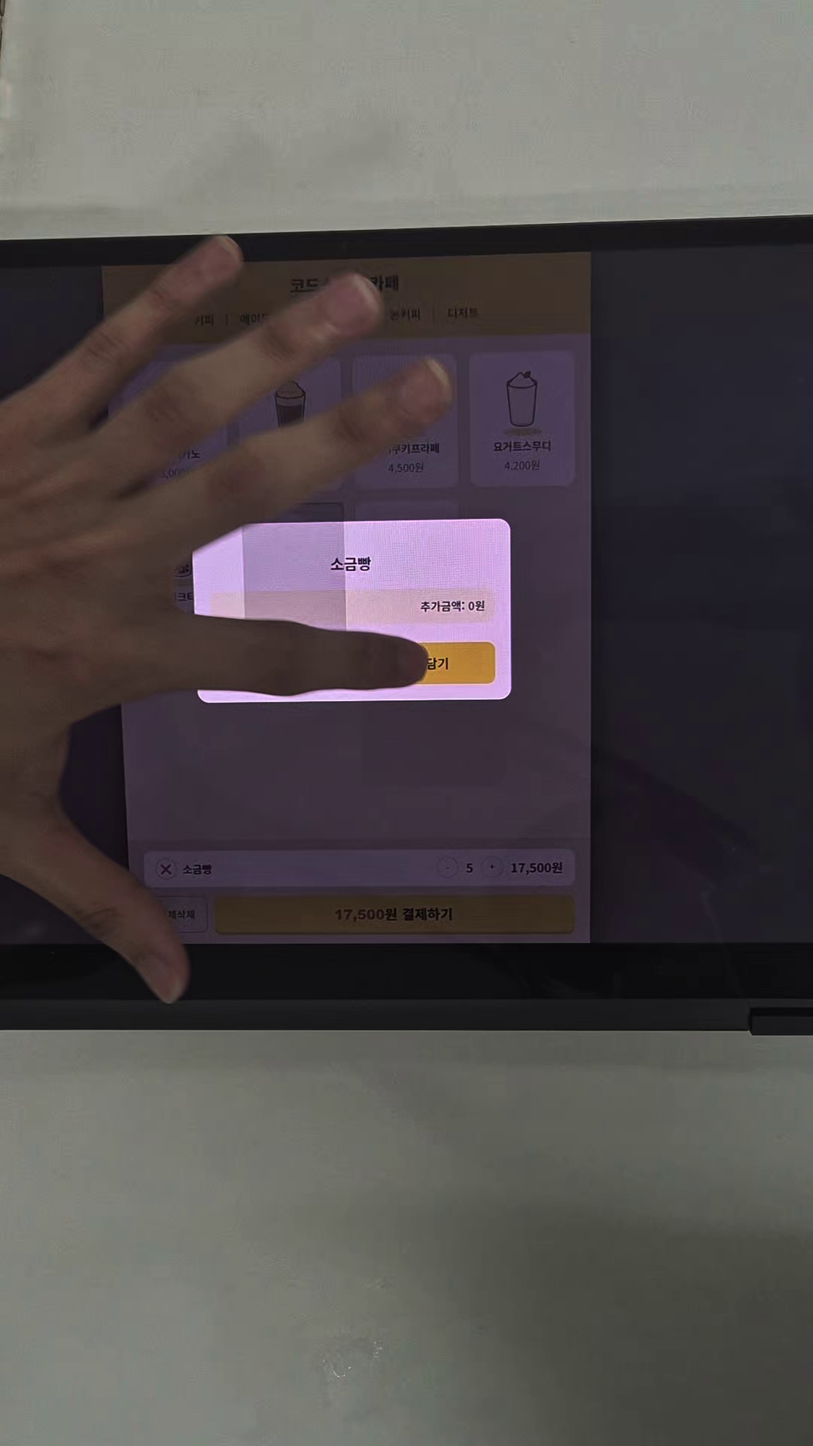action_button: (361, 643, 499, 686)
popup_modal: (197, 519, 513, 702)
